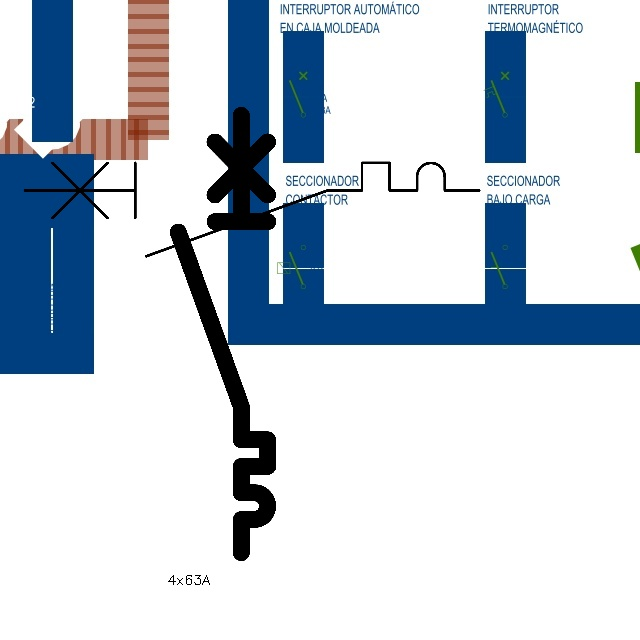interruptor_termomagnetico: (13, 151, 491, 268), (167, 104, 279, 564)
